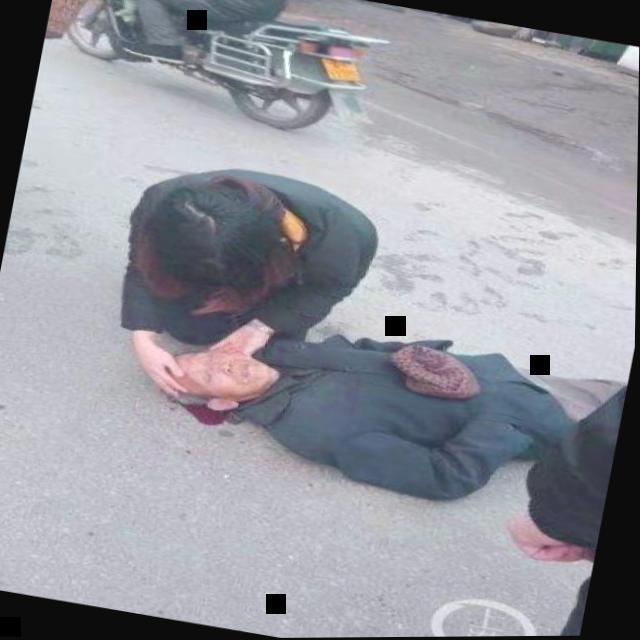Fall-Detected: (128, 280, 612, 523)
